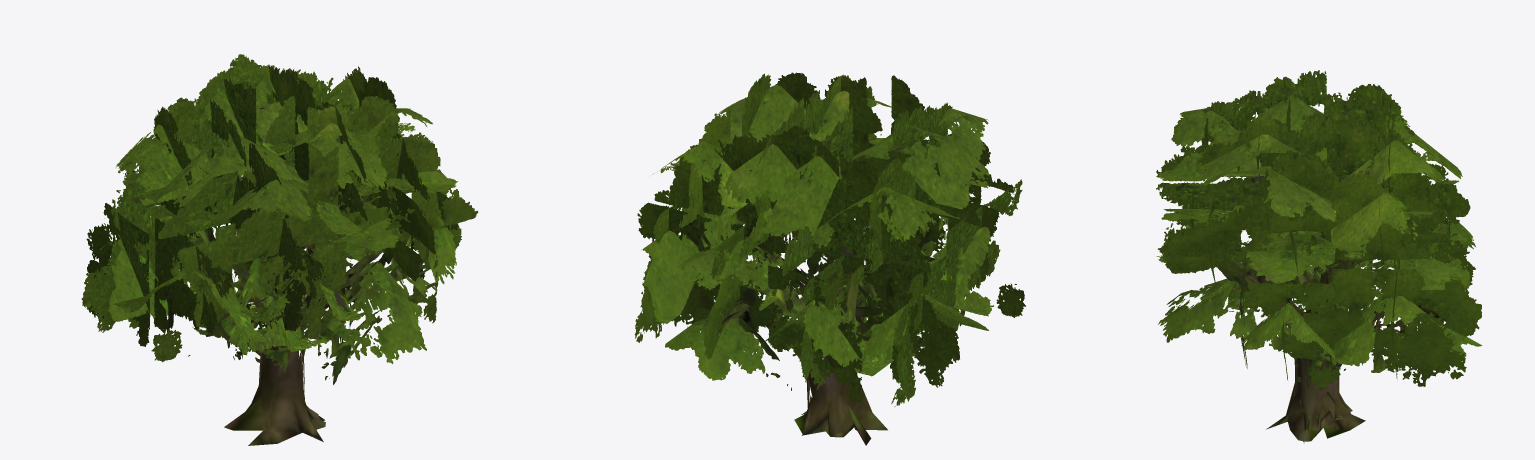
File: tree-4949-far.glb
The picture shows the model from 3 angles, left to right: view 1: azimuth 30°, elevation 25°; view 2: azimuth 150°, elevation 25°; view 3: azimuth 270°, elevation 25°; orthographic projection. The views are drawn at different scales.
Parts seen in each view (by area): view 1: Foliage, Wood; view 2: Foliage, Wood; view 3: Foliage, Wood.
Part boxes in pixels (<box>): Foliage: <box>81,54,478,384</box>; Wood: <box>222,107,380,445</box>; Foliage: <box>634,72,1025,406</box>; Wood: <box>721,227,892,445</box>; Foliage: <box>1156,70,1482,390</box>; Wood: <box>1228,176,1439,442</box>.
Size of the model in its own units: 14.42 by 13.11 by 13.27.
2 materials, 2 textured.
